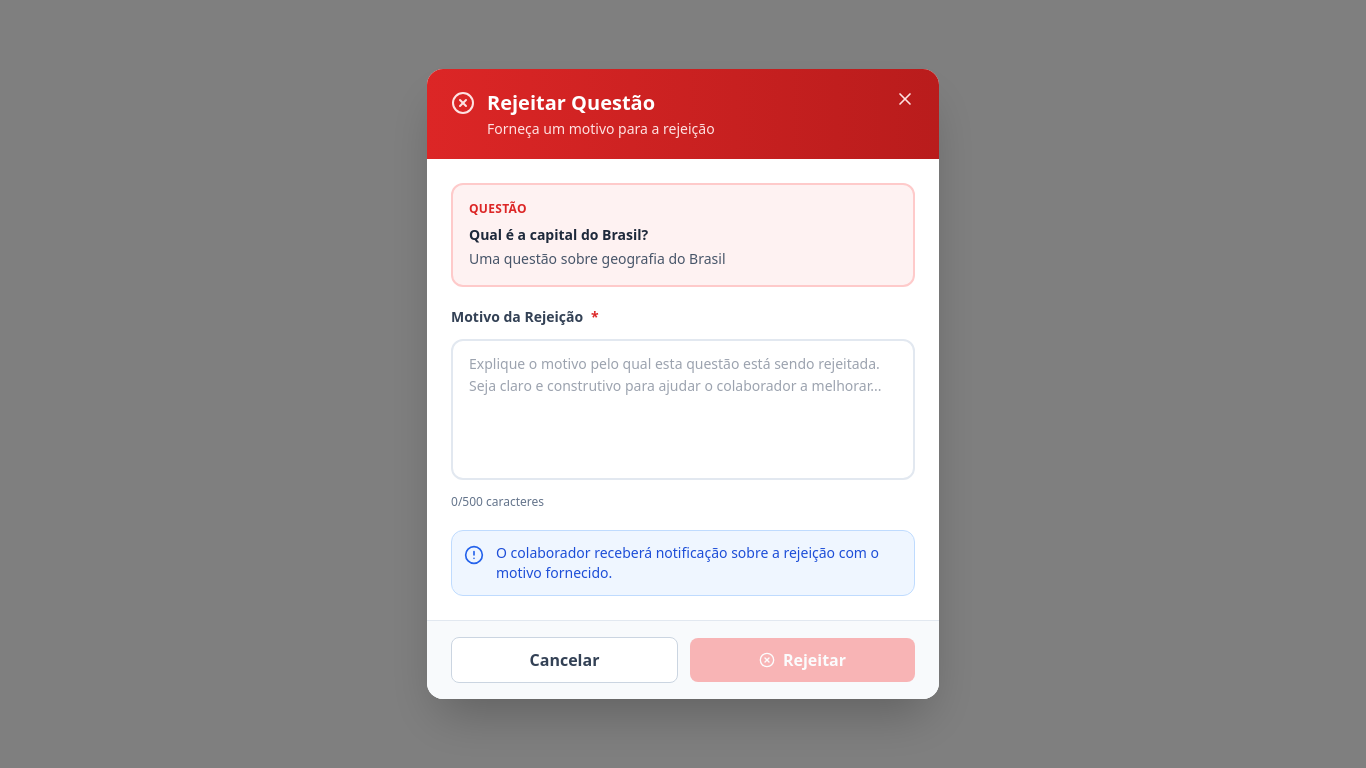
Test case: RejectModal Component › Textarea Field › should display character count correctly
This screenshot has width=1366, height=768.
Expected: the text "0/500 caracteres" is shown, [451, 494, 544, 510]
In the text box: (683, 410) [451, 339, 915, 480], type "Test"
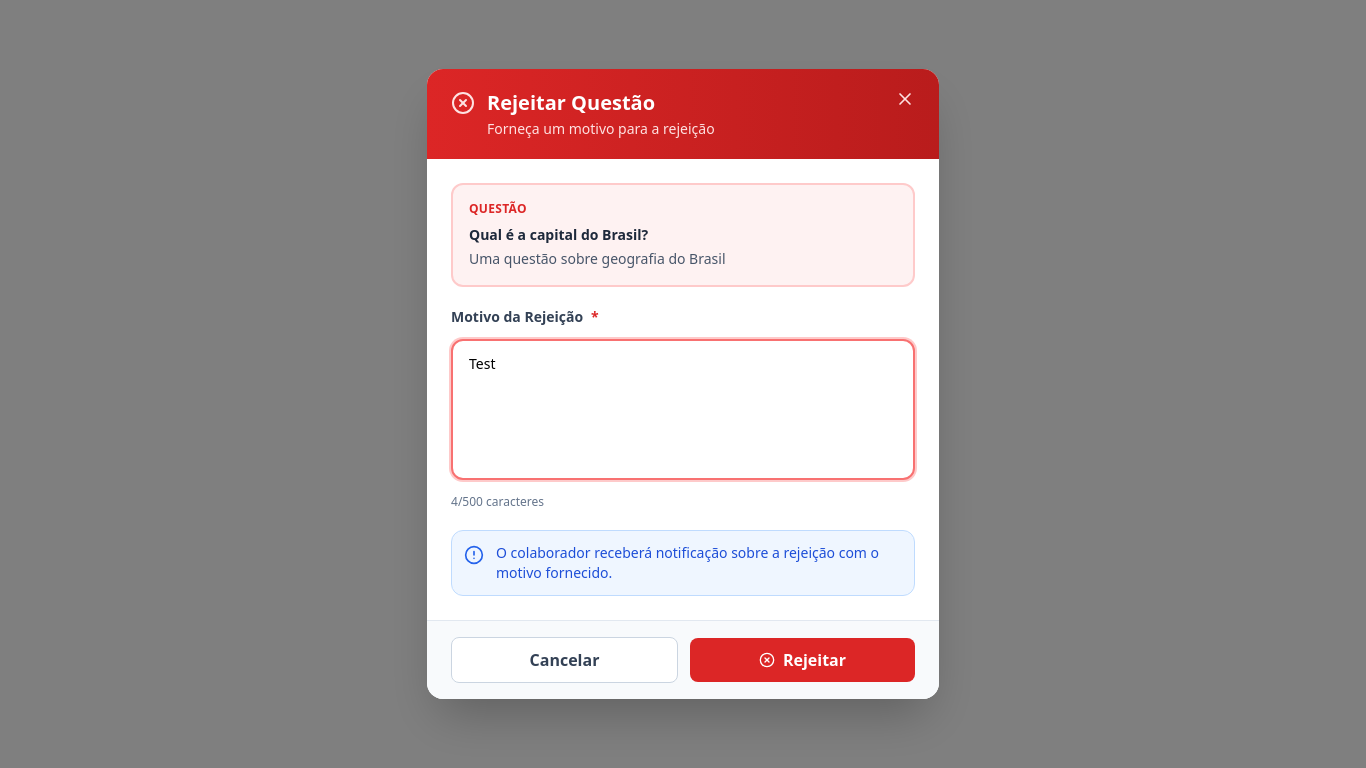
Result: the text "4/500 caracteres" is shown at [451, 494, 544, 510]
